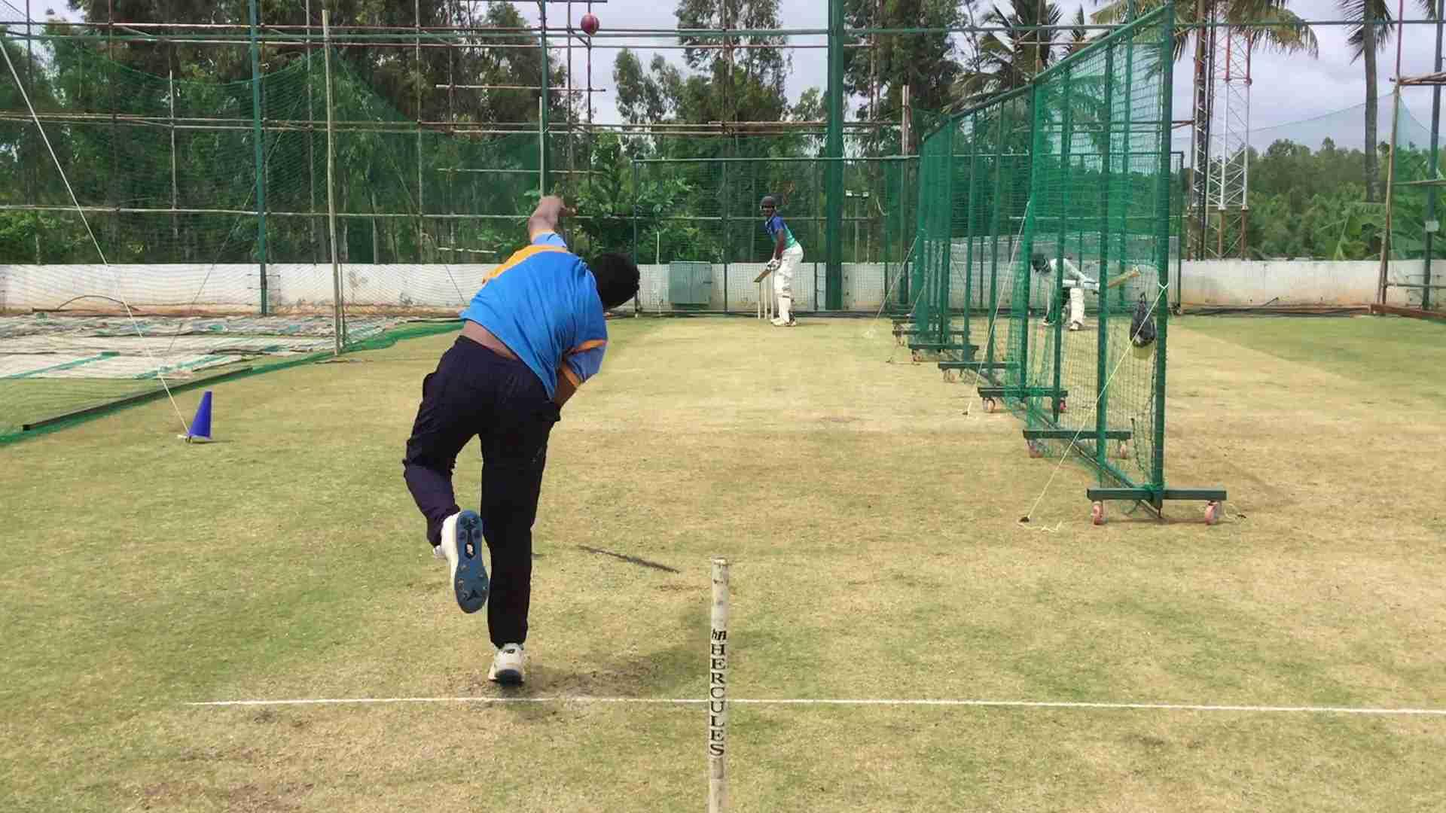batsman: (754, 189, 807, 327)
